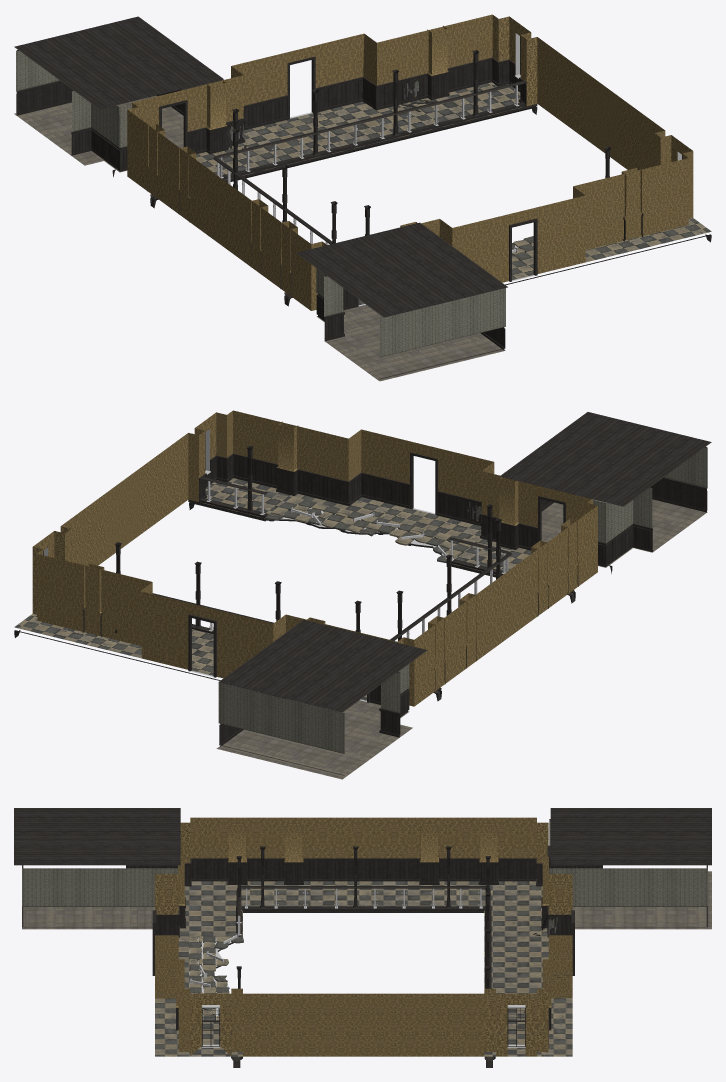
The model's file is Lobby_Floor-B.fbx.
The picture shows the model from 3 angles, top to bottom: view 1: azimuth 30°, elevation 25°; view 2: azimuth 150°, elevation 25°; view 3: azimuth 270°, elevation 25°; orthographic projection. The views are drawn at different scales.
Visible parts, largest first — view 1: Cube_004_NonePlan_005; view 2: Cube_004_NonePlan_005; view 3: Cube_004_NonePlan_005.
Part boxes in pixels (<box>): Cube_004_NonePlan_005: <box>14,14,711,381</box>; Cube_004_NonePlan_005: <box>14,410,711,779</box>; Cube_004_NonePlan_005: <box>14,808,711,1067</box>.
Bounding box in the file's own units: 76.58 × 14.17 × 120.
